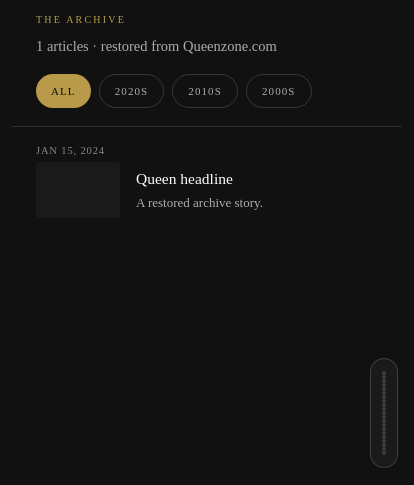
Test: NewsIndexScreen › shows decade-specific empty copy when the server returns no matches
The image size is (414, 485).
Expected: the button with aria-label "Open Queen headline" is shown, [12,126,402,234]
Click the button "2000s" at (279, 91), box [246,74,312,108]
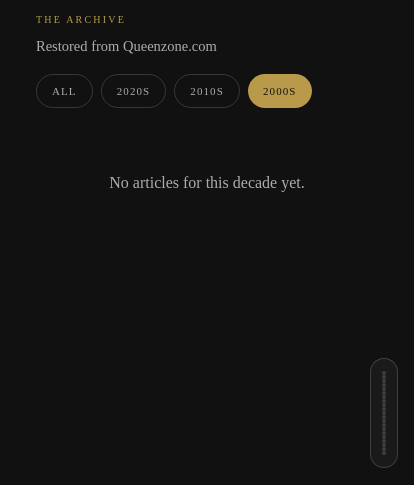
Now the text "No articles for this decade yet." is shown, box [109,170,305,196]
